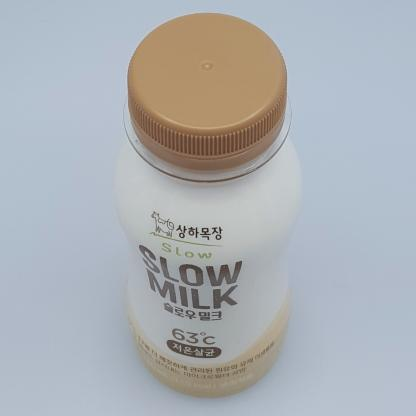----------180ML: (114, 13, 302, 398)
